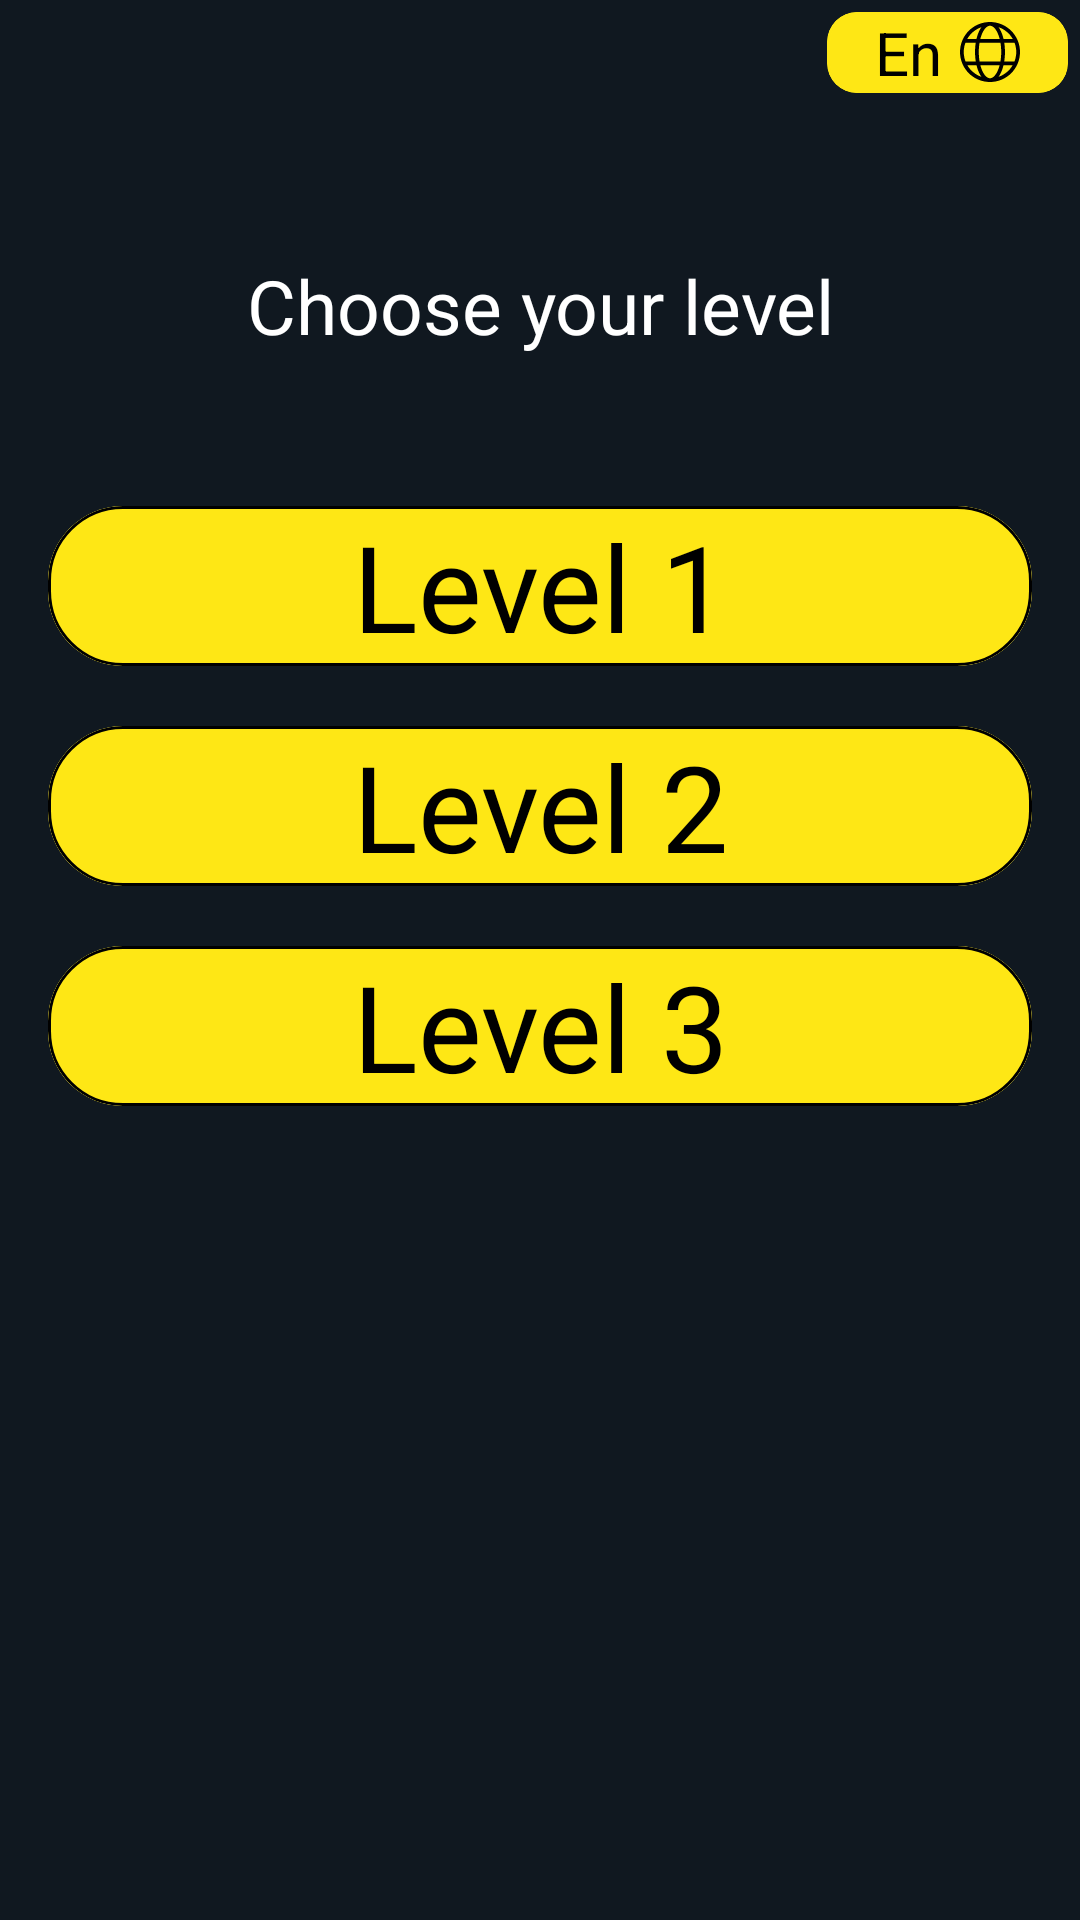

Icon bounding boxes for this 1080w x 1920h phone screenshot, format bbox=(x1, y1, x2, y2):
change language: bbox=(960, 22, 1020, 82)
